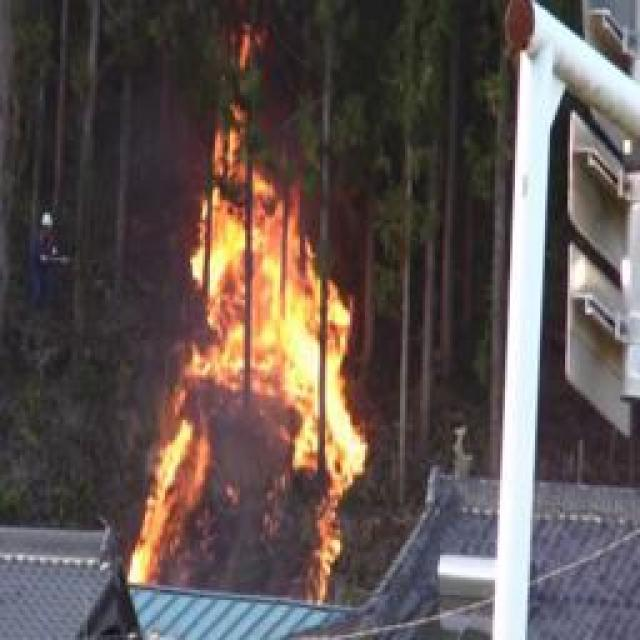Fire: (138, 139, 360, 597)
